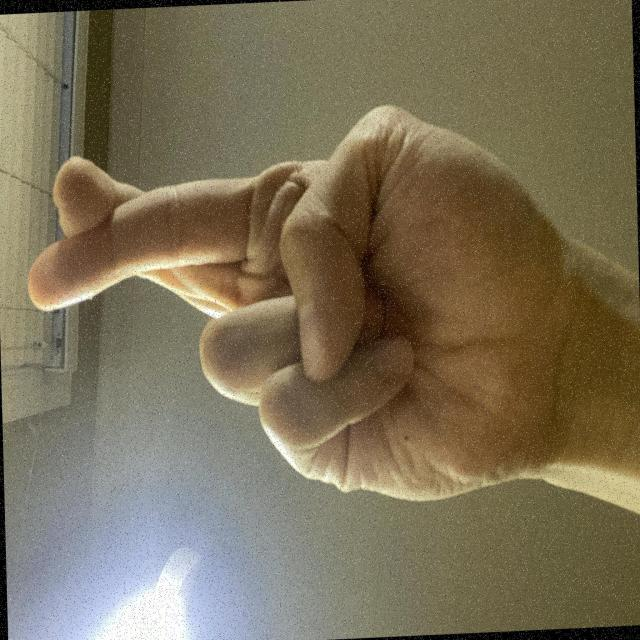R: (82, 25, 419, 640)
